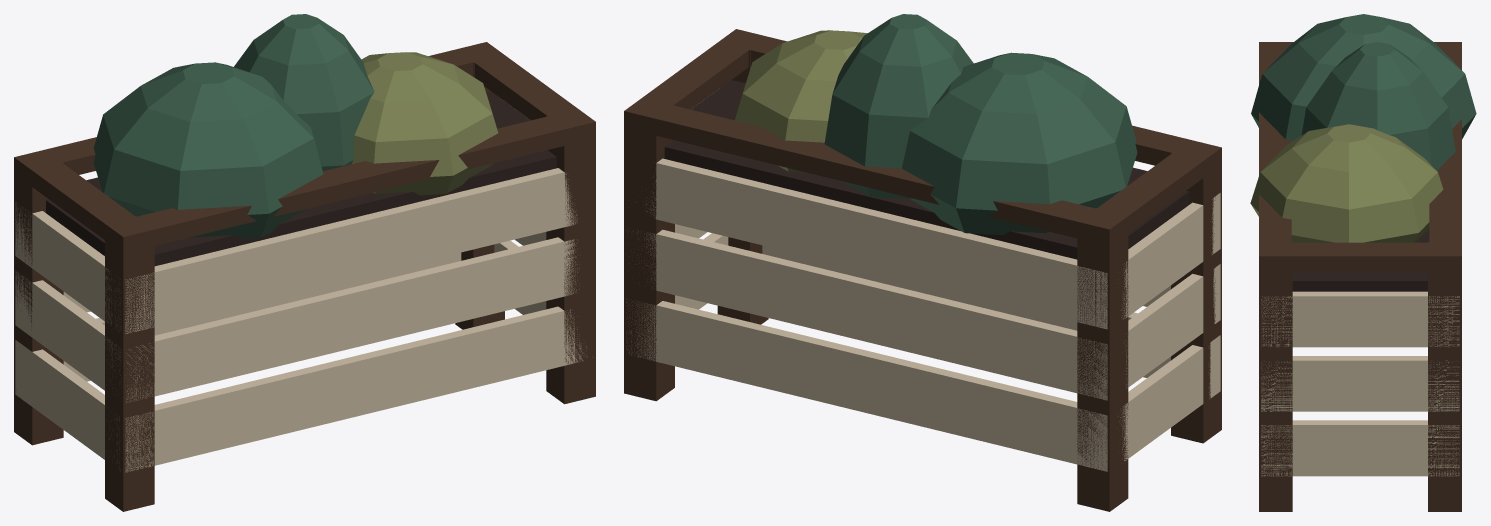
File: FN_Planter_Box.obj
3 renders of one model, left to right at view 1: azimuth 30°, elevation 25°; view 2: azimuth 150°, elevation 25°; view 3: azimuth 270°, elevation 25°, orthographic. The views are drawn at different scales.
Parts seen in each view (by area): view 1: FN_Planter_Box; view 2: FN_Planter_Box; view 3: FN_Planter_Box.
Boxes of the visible parts, x1,y1,x2,y2 form: FN_Planter_Box: (14, 14, 595, 511); FN_Planter_Box: (624, 14, 1221, 511); FN_Planter_Box: (1250, 14, 1476, 511).
Size of the model in its own units: 0.9 by 0.7 by 0.401.
Materials: 1 (1 with a texture image).
